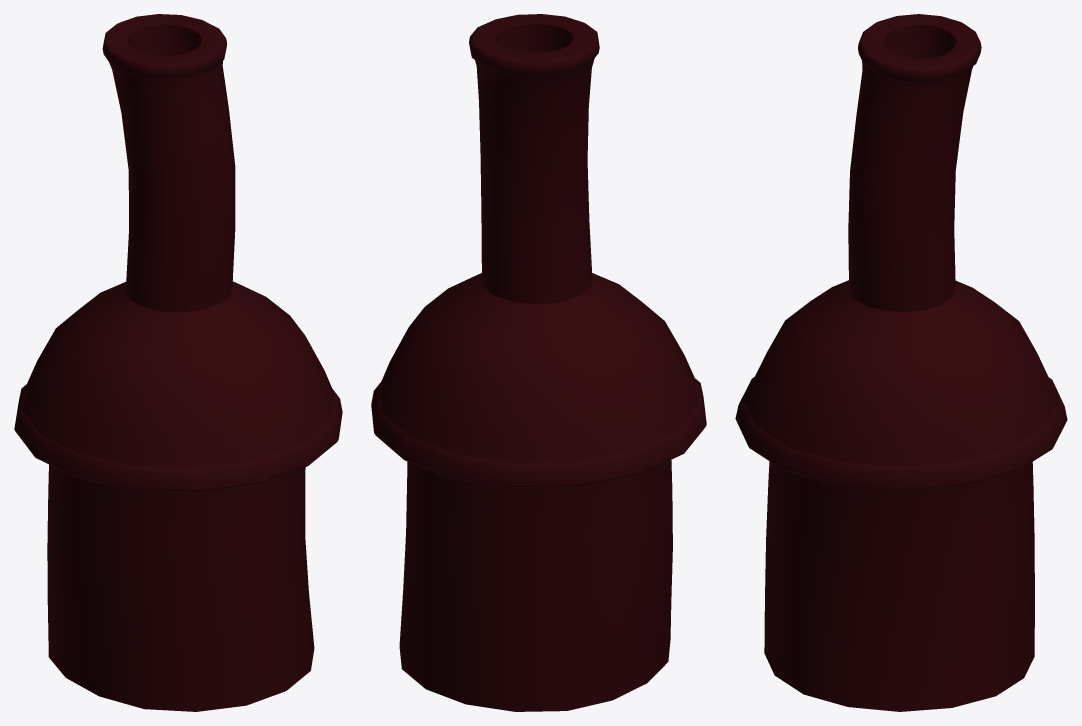
Rendered from Chimney_copper.fbx.
The picture shows the model from 3 angles, left to right: view 1: azimuth 30°, elevation 25°; view 2: azimuth 150°, elevation 25°; view 3: azimuth 270°, elevation 25°; orthographic projection. The views are drawn at different scales.
Visible parts, largest first — view 1: Chimney_copper; view 2: Chimney_copper; view 3: Chimney_copper.
Part boxes in pixels (left/top/right/bottom): Chimney_copper: left=14, top=14, right=342, bottom=711; Chimney_copper: left=371, top=14, right=706, bottom=711; Chimney_copper: left=735, top=14, right=1067, bottom=711.
Size of the model in its own units: 119 by 243 by 119.
